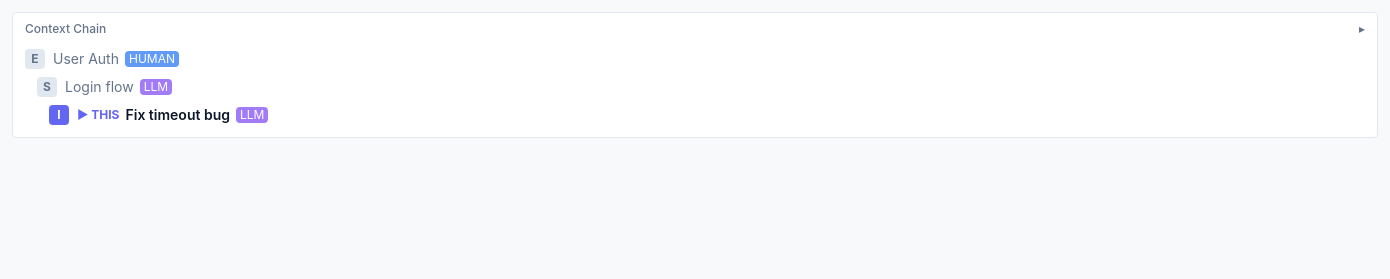
Scenario: ContextChain › expands to show full prompt text when clicked
Note: Click the expand toggle.
Click the button with aria-label "Toggle context chain" at coordinates (66, 28), box left=13, top=13, right=1377, bottom=45
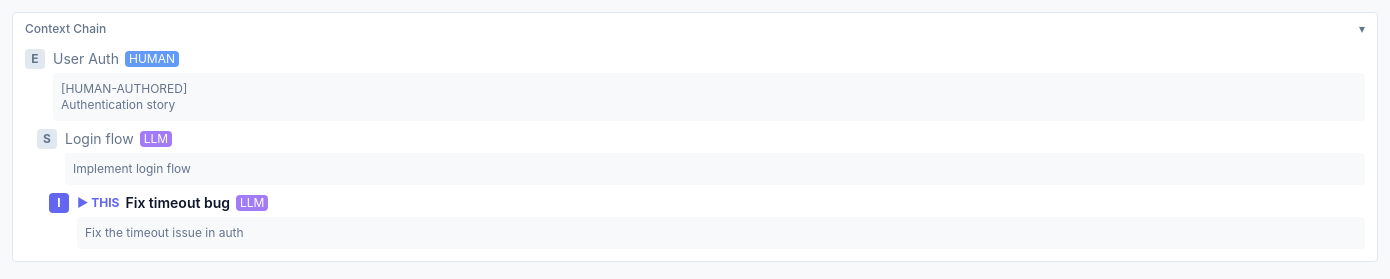
Now the text "[HUMAN-AUTHORED] Authentication story" is shown, box left=53, top=73, right=1365, bottom=121
Now the text "Implement login flow" is shown, box left=65, top=153, right=1365, bottom=185
Now the text "Fix the timeout issue in auth" is shown, box left=77, top=217, right=1365, bottom=249
